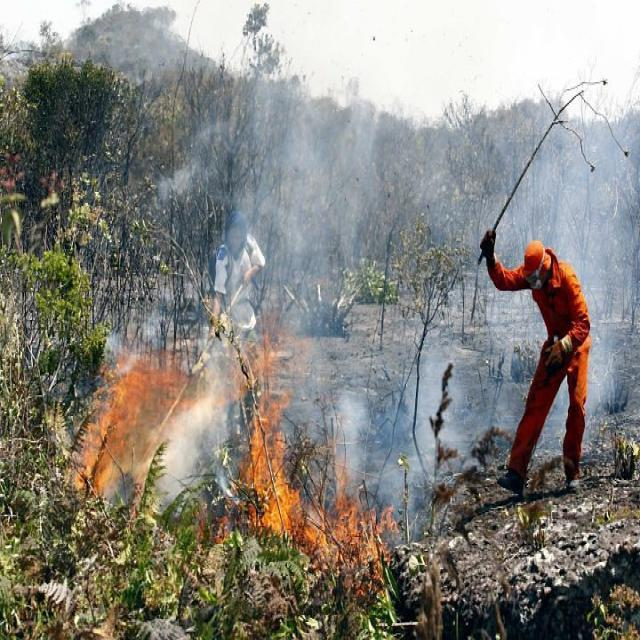Fire: (235, 341, 398, 618), (72, 358, 188, 507)
Smoke: (185, 21, 486, 340), (586, 85, 640, 452), (399, 342, 462, 554)
